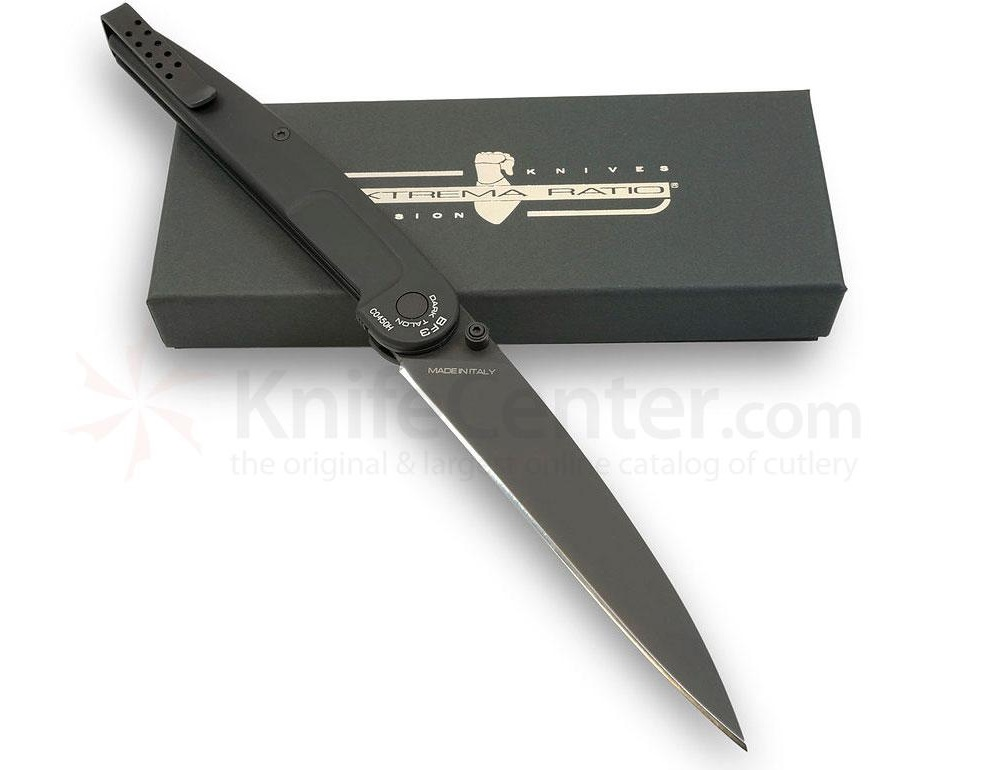knife: (382, 296, 756, 758)
